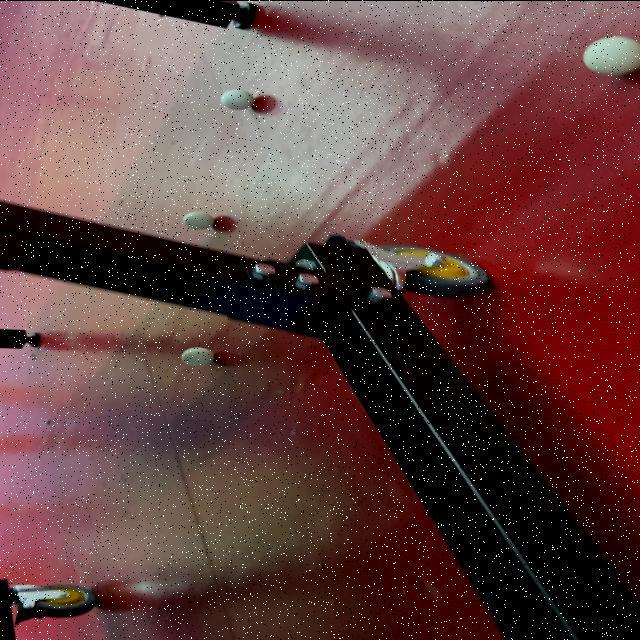ping-pong-ball: (582, 34, 640, 76), (219, 88, 256, 110), (180, 346, 216, 366), (180, 210, 217, 229)
